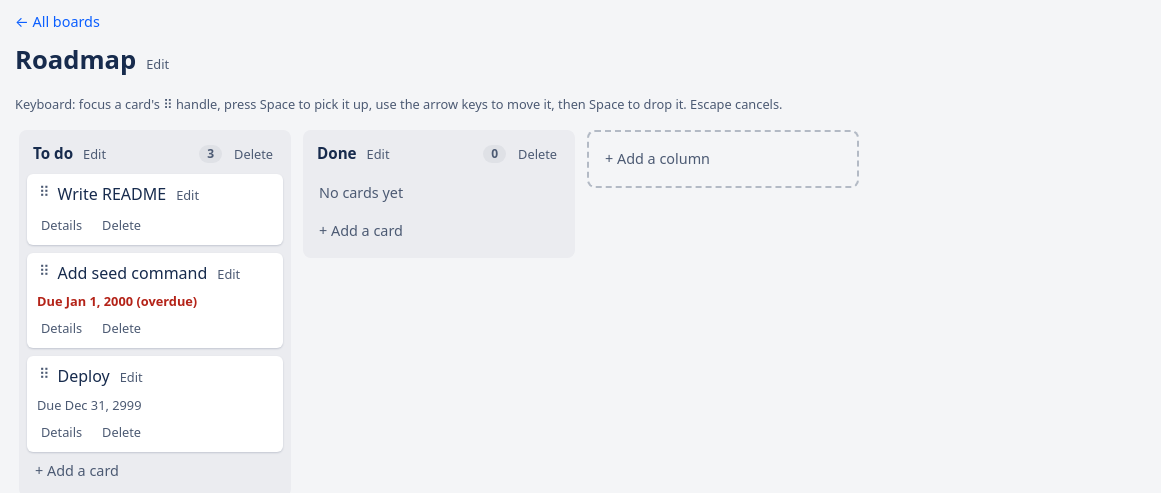
Test case: BoardPage columns › adds a column and saves it
Click the button "+ Add a column": {"x": 723, "y": 159} [597,140,849,178]
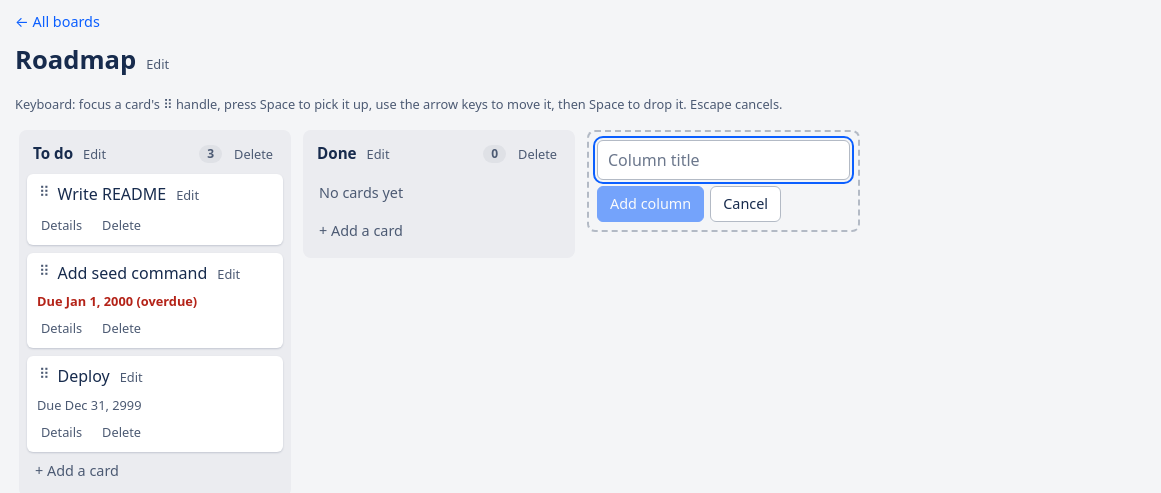
In the field labelled "Column title": {"x": 724, "y": 160} [597,140,850,180], type "Review"
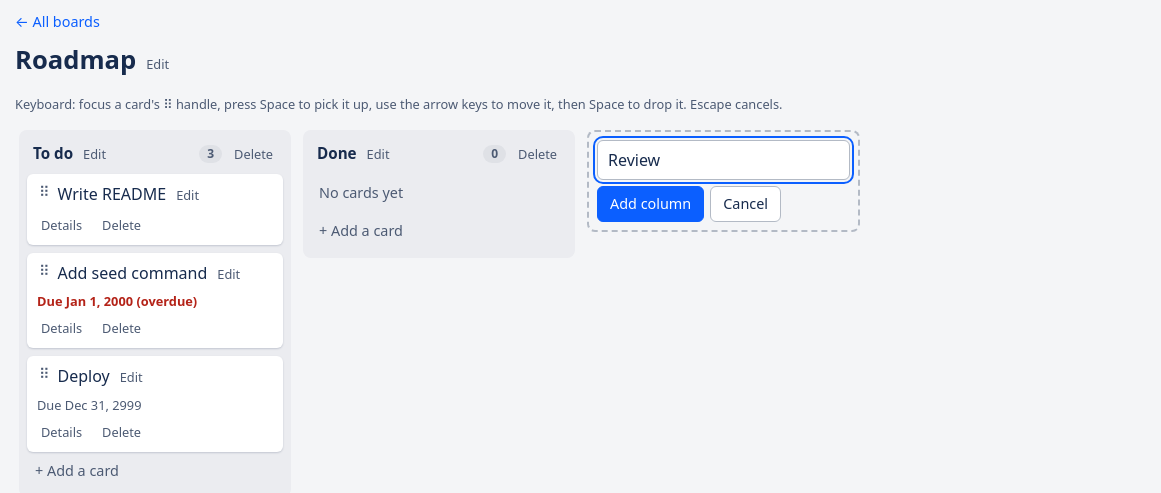
Click the button "Add column": {"x": 651, "y": 204} [597,186,704,222]
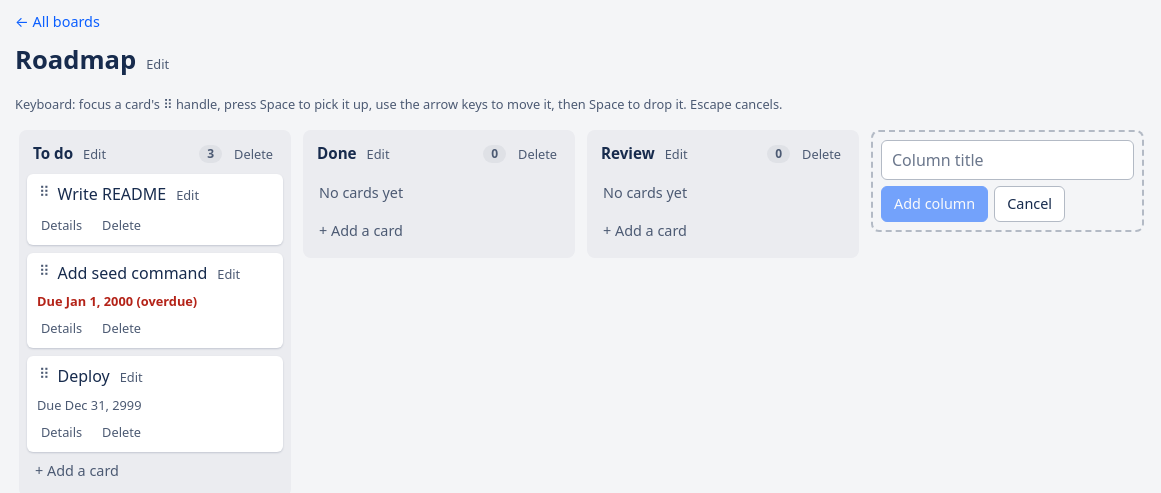
Expected: the element "Review" is shown, [587,130,859,258]
